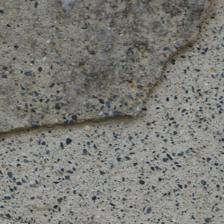Crack: (9, 140, 135, 203), (124, 22, 156, 140)
